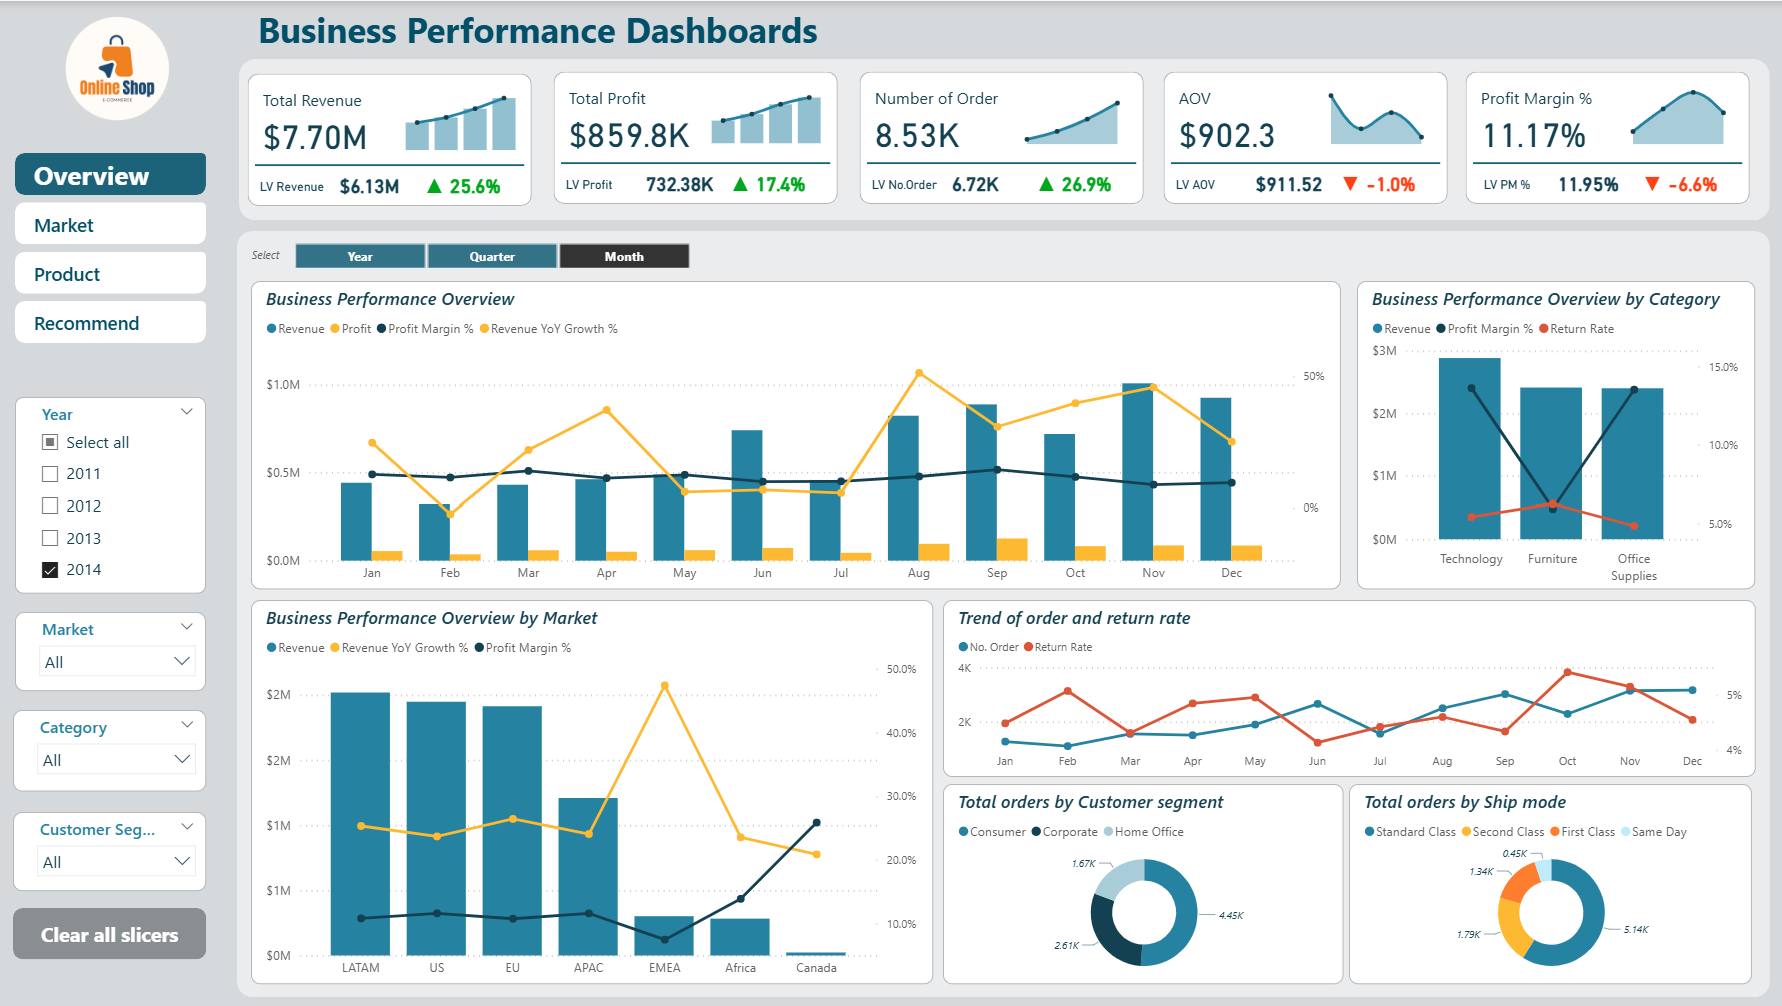

This screenshot's page, from the dashboard's own definition file:
{"tool":"powerbi","page":{"name":"Overview","canvas":[1920,1080],"ordinal":0},"visuals":[{"type":"cardVisual","fields":{"Data":["Measure.Profit"]},"box":[590.8,71.1,315,152.5],"z":0,"group":"g2"},{"type":"cardVisual","fields":{"Data":["Measure.No. Order"]},"box":[918.1,71.1,315,152.5],"z":0,"group":"g3"},{"type":"cardVisual","fields":{"Data":["Measure.AOV"]},"box":[1245.3,71.1,315,152.5],"z":0,"group":"g4"},{"type":"cardVisual","fields":{"Data":["Measure.Profit Margin %"]},"box":[1569.6,71.1,315,152.5],"z":0,"group":"g5"},{"type":"cardVisual","fields":{"Data":["Measure.Sales"]},"box":[262.6,73.6,315,152.5],"z":0,"group":"g1"},{"type":"shape","box":[255.7,246.1,1645.7,821.4],"z":0},{"type":"shape","box":[258,63.3,1643.3,173.3],"z":1000},{"type":"lineStackedColumnComboChart","fields":{"Y":["Measure.Profit"],"Y2":["Measure.Profit"],"Category":["Dim_Date.Year"]},"box":[760.8,82.5,127.1,77.1],"z":1000,"group":"g2"},{"type":"lineStackedColumnComboChart","fields":{"Y2":["Measure.No. Order"],"Category":["Dim_Date.Year"]},"box":[1088.1,82.5,127.1,77.1],"z":1000,"group":"g3"},{"type":"lineStackedColumnComboChart","fields":{"Category":["Dim_Date.Year"],"Y2":["Measure.AOV"]},"box":[1415.3,82.5,127.1,77.1],"z":1000,"group":"g4"},{"type":"lineStackedColumnComboChart","fields":{"Y2":["Measure.Profit Margin %"],"Category":["Dim_Date.Year"]},"box":[1739.6,82.5,127.1,77.1],"z":1000,"group":"g5"},{"type":"lineStackedColumnComboChart","fields":{"Y":["Measure.Sales"],"Y2":["Measure.Sales"],"Category":["Dim_Date.Year"]},"box":[432.6,87.6,128,78],"z":1000,"group":"g1"},{"type":"shape","box":[603.8,144.6,289.1,60.4],"z":2000,"group":"g2"},{"type":"shape","box":[931.1,144.6,289.1,60.4],"z":2000,"group":"g3"},{"type":"shape","box":[1258.3,144.6,289.1,60.4],"z":2000,"group":"g4"},{"type":"shape","box":[1582.6,144.6,289.1,60.4],"z":2000,"group":"g5"},{"type":"shape","box":[275.6,147.1,289.1,60.4],"z":2000,"group":"g1"},{"type":"lineClusteredColumnComboChart","title":"Business Performance Overview","fields":{"Category":["Dim_Date.Month"],"Y":["Measure.Sales","Measure.Profit"],"Y2":["Measure.Profit Margin %","Measure.Sales YoY Growth %"]},"box":[270,300,1170,330],"z":2000},{"type":"cardVisual","fields":{"Data":["Measure.Profit LY"]},"box":[675.9,158.1,126.6,57.7],"z":3000,"group":"g2"},{"type":"cardVisual","fields":{"Data":["Measure.No.Order LY"]},"box":[1003.2,158.1,126.6,57.7],"z":3000,"group":"g3"},{"type":"cardVisual","fields":{"Data":["Measure.AOV LY"]},"box":[1330.4,158.1,126.6,57.7],"z":3000,"group":"g4"},{"type":"cardVisual","fields":{"Data":["Measure.Profit Margin % LV"]},"box":[1654.7,158.1,126.6,57.7],"z":3000,"group":"g5"},{"type":"cardVisual","fields":{"Data":["Measure.Sales LY"]},"box":[347.7,160.6,126.6,57.7],"z":3000,"group":"g1"},{"type":"actionButton","box":[15,972.5,207.5,55],"z":3000},{"type":"textbox","box":[603,182.8,95.9,36.6],"z":4000,"group":"g2"},{"type":"textbox","box":[930.3,182.8,95.9,36.6],"z":4000,"group":"g3"},{"type":"textbox","box":[1257.5,182.8,95.9,36.6],"z":4000,"group":"g4"},{"type":"textbox","box":[1589,183.1,74,37.5],"z":4000,"group":"g5"},{"type":"textbox","box":[274.8,185.3,95.9,36.6],"z":4000,"group":"g1"},{"type":"slicer","title":"Time viewer","fields":{"Values":["Time View.Time View"]},"box":[291.8,253.9,473.3,36.7],"z":4000},{"type":"cardVisual","fields":{"Data":["Measure.YoY Growth Profit with Arrow"]},"box":[766.5,156.8,138.6,64.3],"z":5000,"group":"g2"},{"type":"cardVisual","fields":{"Data":["Measure.YoY Growth No.Order with Arrow"]},"box":[1093.8,156.8,138.6,64.3],"z":5000,"group":"g3"},{"type":"cardVisual","fields":{"Data":["Measure.YoY Growth AOV with Arrow"]},"box":[1421,156.8,138.6,64.3],"z":5000,"group":"g4"},{"type":"cardVisual","fields":{"Data":["Measure.Profit Margin % Growth with Arrow"]},"box":[1745.3,156.8,138.6,64.3],"z":5000,"group":"g5"},{"type":"cardVisual","fields":{"Data":["Measure.YoY Growth with Arrow"]},"box":[438.3,159.3,138.6,64.3],"z":5000,"group":"g1"},{"type":"pageNavigator","box":[17.5,162.5,205,257.5],"z":5000},{"type":"textbox","box":[266.2,257.3,71.7,33.3],"z":6000},{"type":"slicer","fields":{"Values":["Dim_Date.Year"]},"box":[17.5,425,205,210],"z":7000},{"type":"slicer","fields":{"Values":["Dim_CityRegion.Market"]},"box":[17.5,655,205,85],"z":8000},{"type":"slicer","fields":{"Values":["Dim_Sub_Category.Category"]},"box":[15,760,207.5,87.5],"z":9000},{"type":"image","box":[16,8,224,128],"z":10000},{"type":"group","id":"g1","title":"Card total revenue","box":[262.6,73.6,315,152.5],"z":11000},{"type":"group","id":"g2","title":"Card total profit","box":[590.8,71.1,314,152],"z":12000},{"type":"group","id":"g3","title":"Card total order","box":[918.1,71.1,314,152],"z":13000},{"type":"group","id":"g4","title":"Card AOV","box":[1245.3,71.1,314,152],"z":14000},{"type":"group","id":"g5","title":"Card profit margin","box":[1569.6,71.1,315,152.5],"z":15000},{"type":"donutChart","title":"Total orders by Customer segment","fields":{"Y":["Measure.No. Order"],"Category":["Dim_Customer_Segment.Segment"]},"box":[1012.5,840,430,215],"z":16000},{"type":"lineClusteredColumnComboChart","title":"Business Performance Overview by Category","fields":{"Category":["Dim_Sub_Category.Category"],"Y":["Measure.Sales"],"Y2":["Measure.Profit Margin %","Measure.Return Rate"]},"box":[1457.5,300,427.5,330],"z":17000},{"type":"lineClusteredColumnComboChart","title":"Business Performance Overview by Market","fields":{"Category":["Dim_CityRegion.Market"],"Y":["Measure.Sales"],"Y2":["Measure.Sales YoY Growth %","Measure.Profit Margin %"]},"box":[270,642.5,732.5,412.5],"z":18000},{"type":"lineChart","title":"Trend of order and return rate","fields":{"Category":["Dim_Date.Month"],"Y2":["Measure.Return Rate"],"Y":["Measure.No. Order"]},"box":[1012.5,642.5,872.5,190],"z":19000},{"type":"slicer","fields":{"Values":["Dim_Customer_Segment.Segment"]},"box":[15,870,207.5,85],"z":20000},{"type":"donutChart","title":"Total orders by Ship mode","fields":{"Y":["Measure.No. Order"],"Category":["Dim_Shipmode.Ship Mode"]},"box":[1450,840,432.5,215],"z":21000},{"type":"textbox","box":[257.5,0,641.3,69.1],"z":22000}]}

Visuals, with their boxes on the page's 1920x1080 design canvas (x1, y1, x2, y2). These are canvas units, not pixel positions in the 1782x1006 screenshot, which may show the page scaled, cropped or inside an application window:
cardVisual - Measure.Profit: 591, 71, 906, 224
cardVisual - Measure.No. Order: 918, 71, 1233, 224
cardVisual - Measure.AOV: 1245, 71, 1560, 224
cardVisual - Measure.Profit Margin %: 1570, 71, 1885, 224
cardVisual - Measure.Sales: 263, 74, 578, 226
shape: 256, 246, 1901, 1068
shape: 258, 63, 1901, 237
lineStackedColumnComboChart - Measure.Profit x Measure.Profit: 761, 82, 888, 160
lineStackedColumnComboChart - Measure.No. Order x Dim_Date.Year: 1088, 82, 1215, 160
lineStackedColumnComboChart - Dim_Date.Year x Measure.AOV: 1415, 82, 1542, 160
lineStackedColumnComboChart - Measure.Profit Margin % x Dim_Date.Year: 1740, 82, 1867, 160
lineStackedColumnComboChart - Measure.Sales x Measure.Sales: 433, 88, 561, 166
shape: 604, 145, 893, 205
shape: 931, 145, 1220, 205
shape: 1258, 145, 1547, 205
shape: 1583, 145, 1872, 205
shape: 276, 147, 565, 208
"Business Performance Overview" lineClusteredColumnComboChart: 270, 300, 1440, 630
cardVisual - Measure.Profit LY: 676, 158, 802, 216
cardVisual - Measure.No.Order LY: 1003, 158, 1130, 216
cardVisual - Measure.AOV LY: 1330, 158, 1457, 216
cardVisual - Measure.Profit Margin % LV: 1655, 158, 1781, 216
cardVisual - Measure.Sales LY: 348, 161, 474, 218
actionButton: 15, 972, 222, 1028
textbox: 603, 183, 699, 219
textbox: 930, 183, 1026, 219
textbox: 1258, 183, 1353, 219
textbox: 1589, 183, 1663, 221
textbox: 275, 185, 371, 222
"Time viewer" slicer: 292, 254, 765, 291
cardVisual - Measure.YoY Growth Profit with Arrow: 766, 157, 905, 221
cardVisual - Measure.YoY Growth No.Order with Arrow: 1094, 157, 1232, 221
cardVisual - Measure.YoY Growth AOV with Arrow: 1421, 157, 1560, 221
cardVisual - Measure.Profit Margin % Growth with Arrow: 1745, 157, 1884, 221
cardVisual - Measure.YoY Growth with Arrow: 438, 159, 577, 224
pageNavigator: 18, 162, 222, 420
textbox: 266, 257, 338, 291
slicer - Dim_Date.Year: 18, 425, 222, 635
slicer - Dim_CityRegion.Market: 18, 655, 222, 740
slicer - Dim_Sub_Category.Category: 15, 760, 222, 848
image: 16, 8, 240, 136
"Card total revenue" group: 263, 74, 578, 226
"Card total profit" group: 591, 71, 905, 223
"Card total order" group: 918, 71, 1232, 223
"Card AOV" group: 1245, 71, 1559, 223
"Card profit margin" group: 1570, 71, 1885, 224
"Total orders by Customer segment" donutChart: 1012, 840, 1442, 1055
"Business Performance Overview by Category" lineClusteredColumnComboChart: 1458, 300, 1885, 630
"Business Performance Overview by Market" lineClusteredColumnComboChart: 270, 642, 1002, 1055
"Trend of order and return rate" lineChart: 1012, 642, 1885, 832
slicer - Dim_Customer_Segment.Segment: 15, 870, 222, 955
"Total orders by Ship mode" donutChart: 1450, 840, 1882, 1055
textbox: 258, 0, 899, 69
